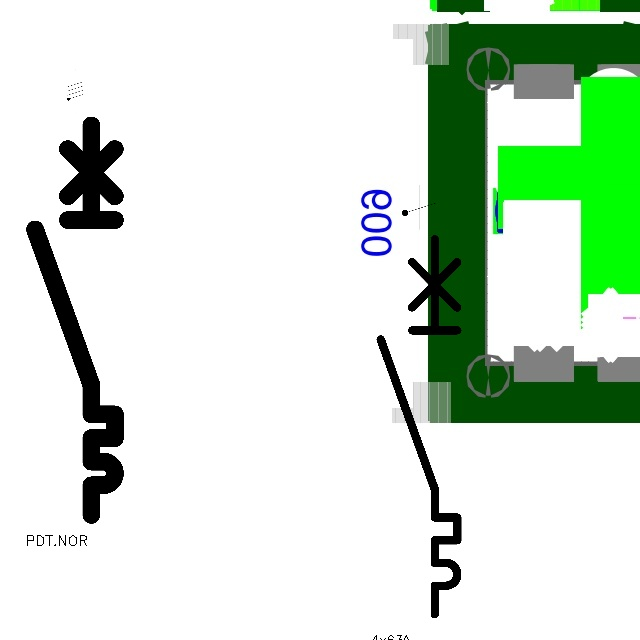interruptor_termomagnetico: (25, 115, 125, 525), (371, 229, 467, 623)
